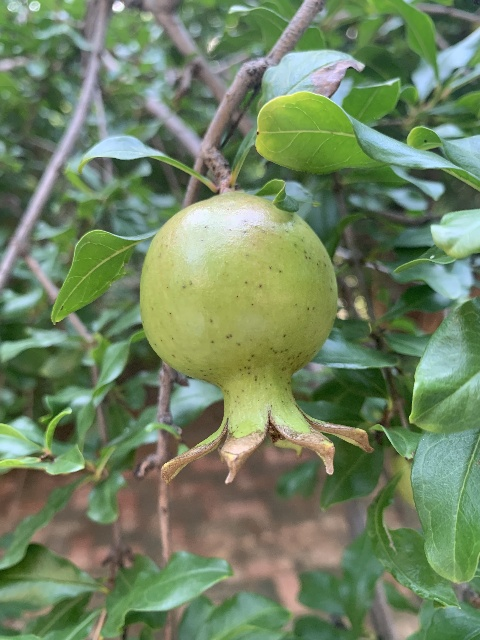mid-growth: (138, 192, 373, 490)
